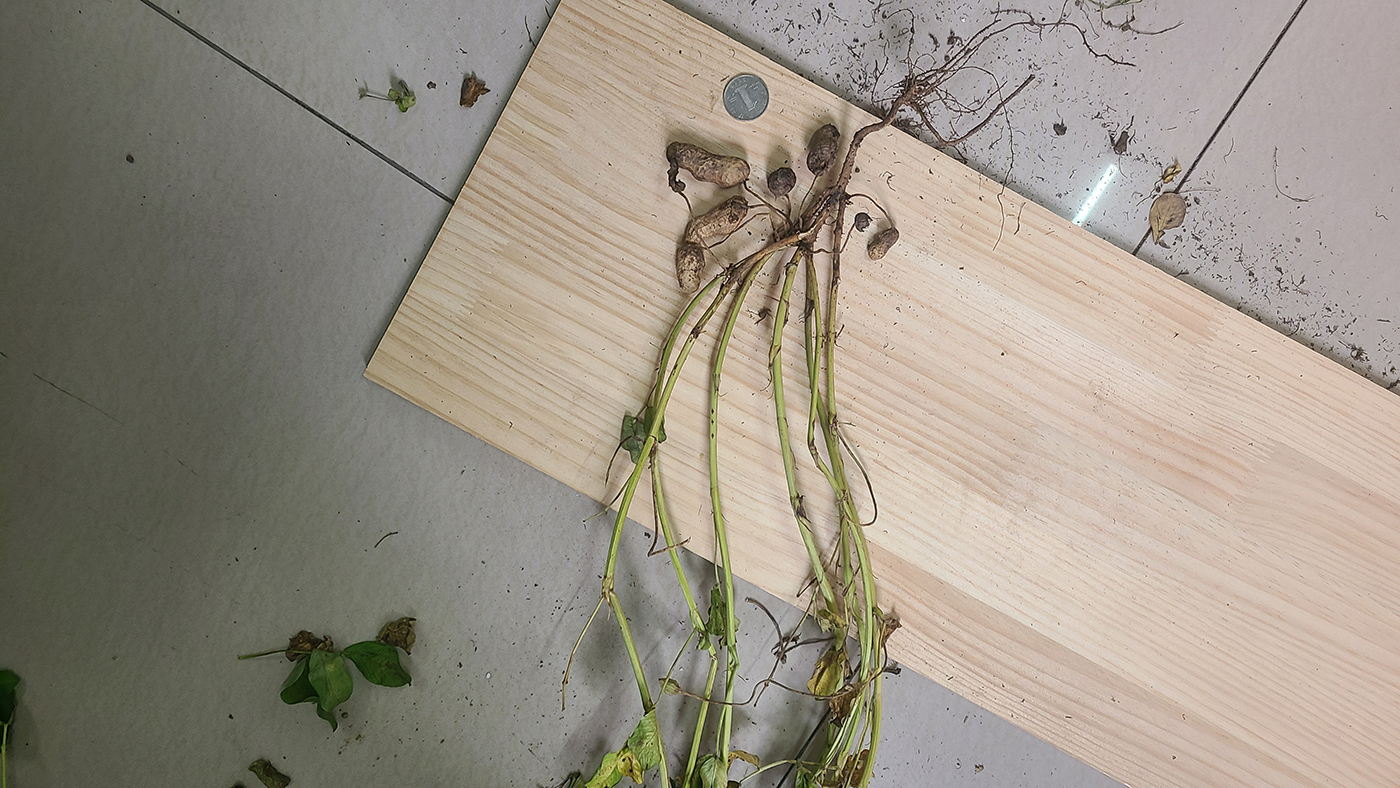h: (686, 197, 751, 242), (676, 244, 704, 291)
l: (667, 140, 751, 186), (806, 124, 839, 175), (867, 227, 901, 260), (768, 167, 795, 195), (668, 163, 684, 191), (853, 213, 872, 231)
